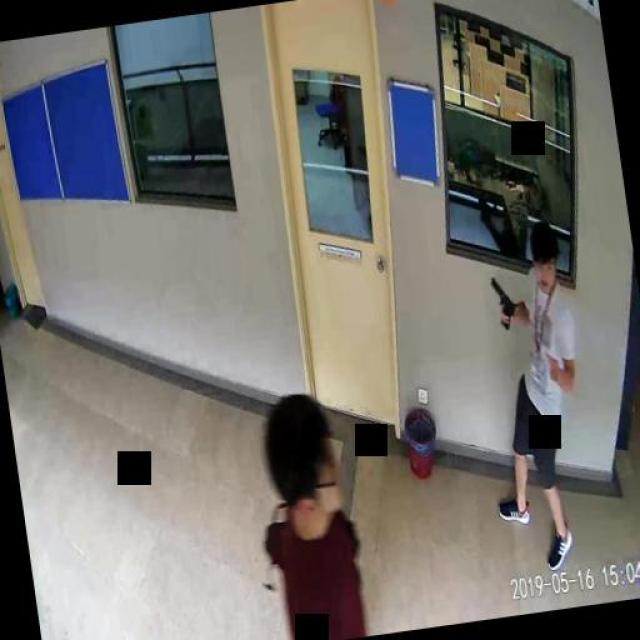gun: (488, 276, 518, 330)
